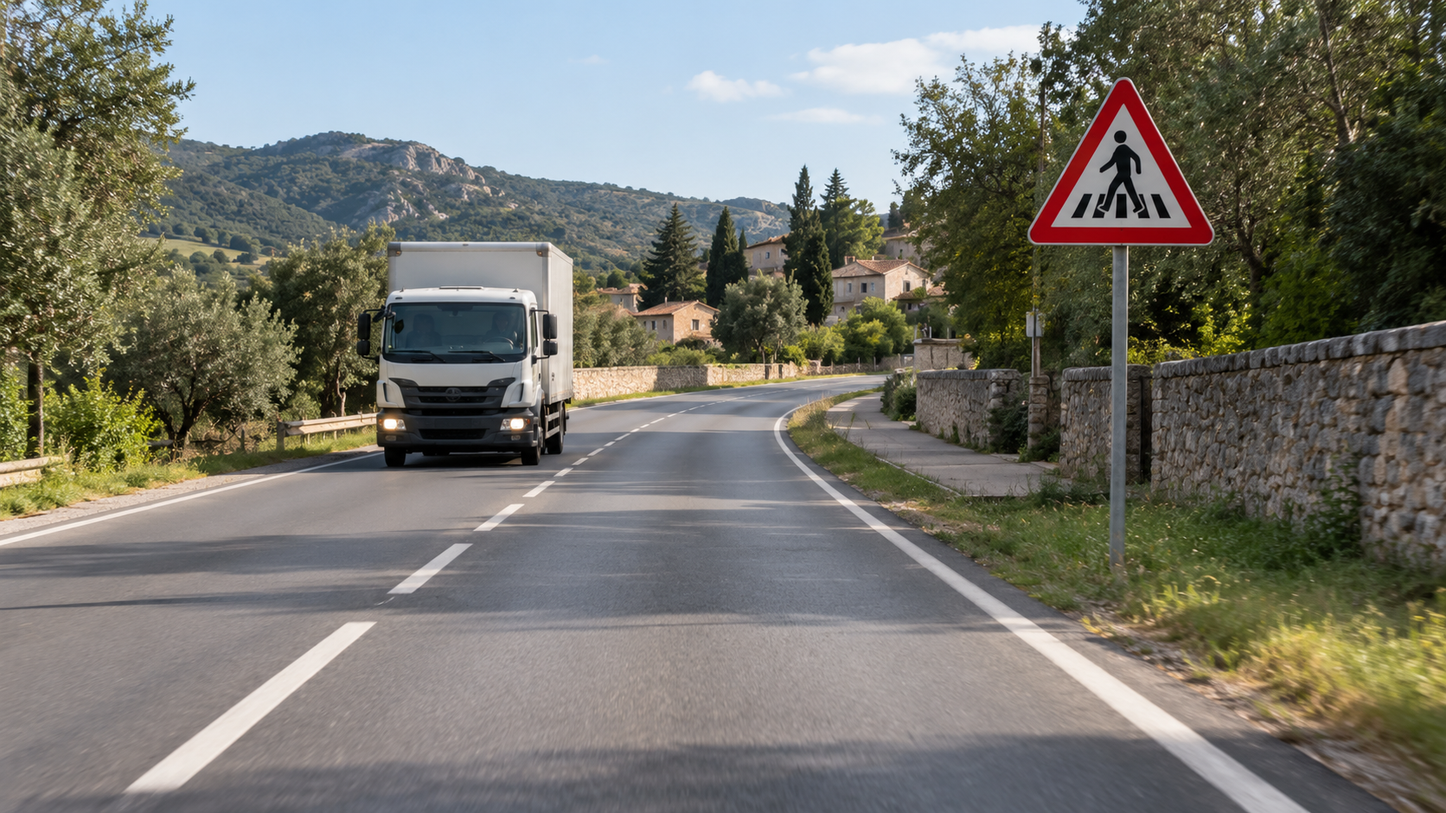crossing_warning_sign: (1027, 78, 1215, 245)
truck: (355, 241, 571, 467)
